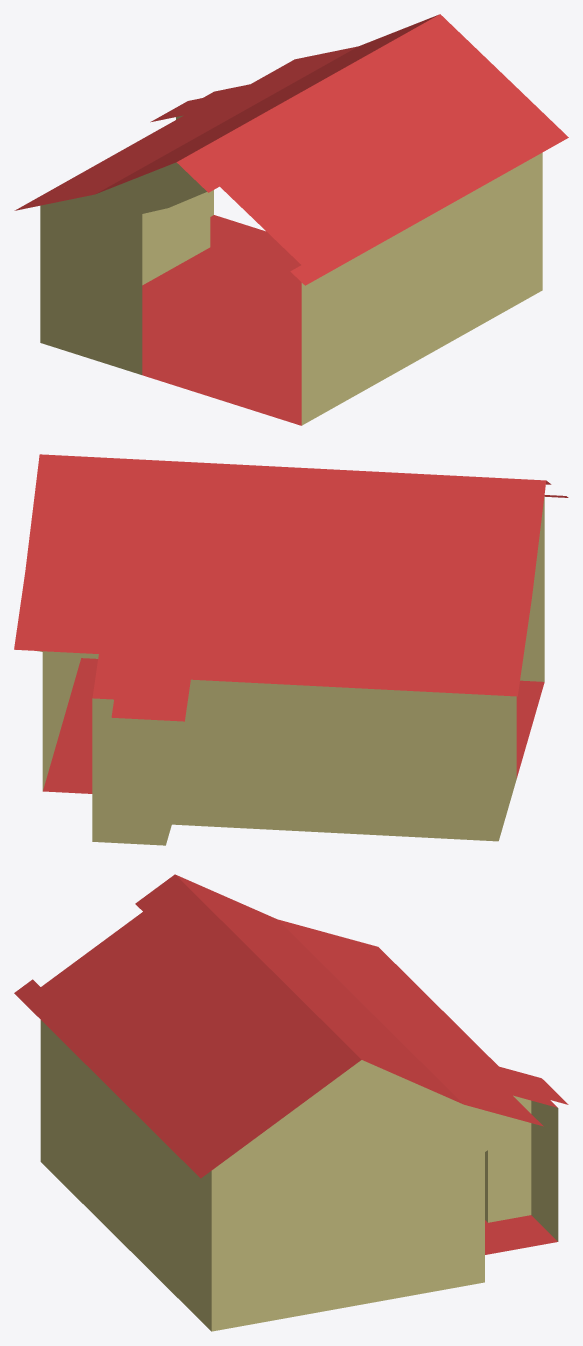
3 views of the same model, one above another, from view 1: azimuth 30°, elevation 25°; view 2: azimuth 150°, elevation 25°; view 3: azimuth 270°, elevation 25° (orthographic). The views are drawn at different scales.
Bounding box in the file's own units: 29.16 × 27.24 × 13.77.
